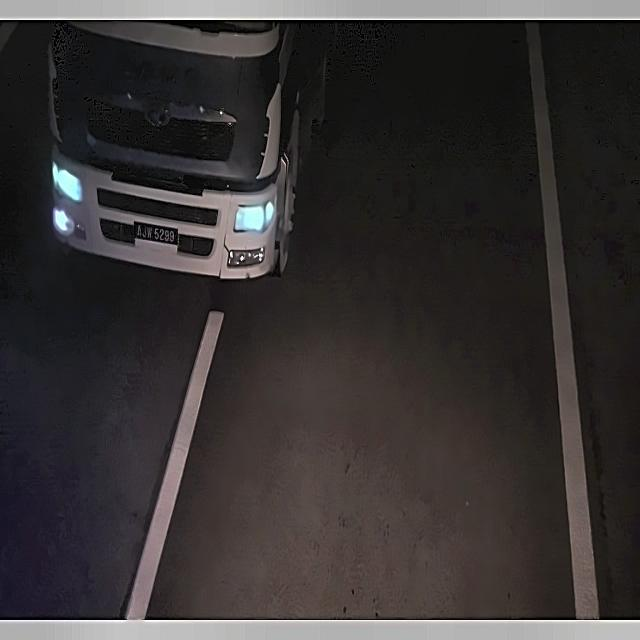car: (128, 215, 181, 252)
